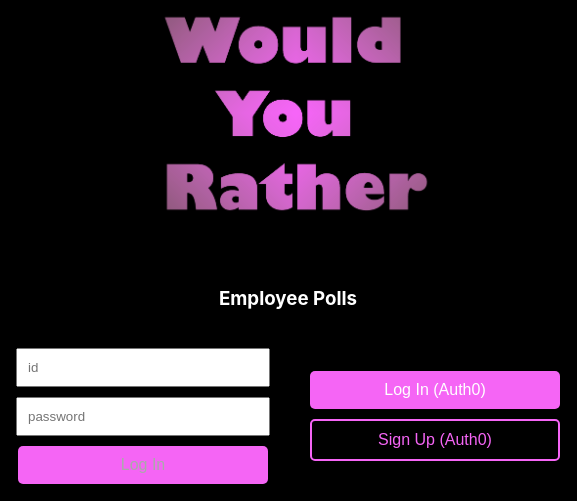
testing <LoginPage /> › should enable submit button when id and password both not empty.
The width and height of the screenshot is (577, 501).
Type "sarahedo" into the field with test id "id-input" at (143, 368), box [16,348,270,387]
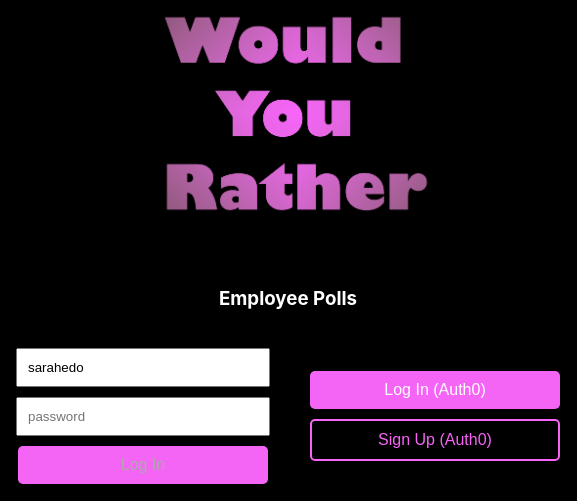
Type "password123" into the password field with test id "pw-input" at (143, 417), box [16,397,270,436]
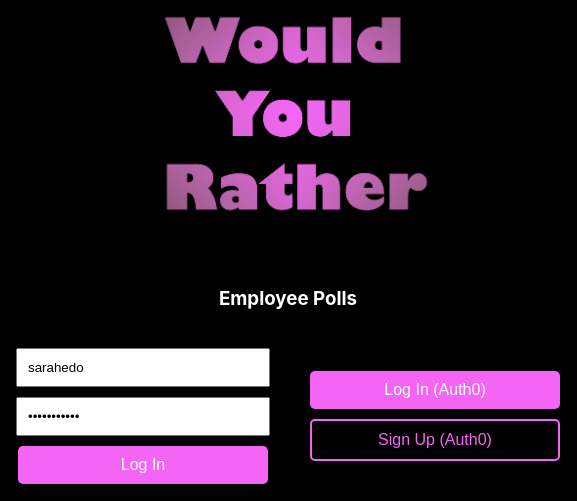
Expected: the button with test id "login-button" is enabled, [18,446,268,484]
